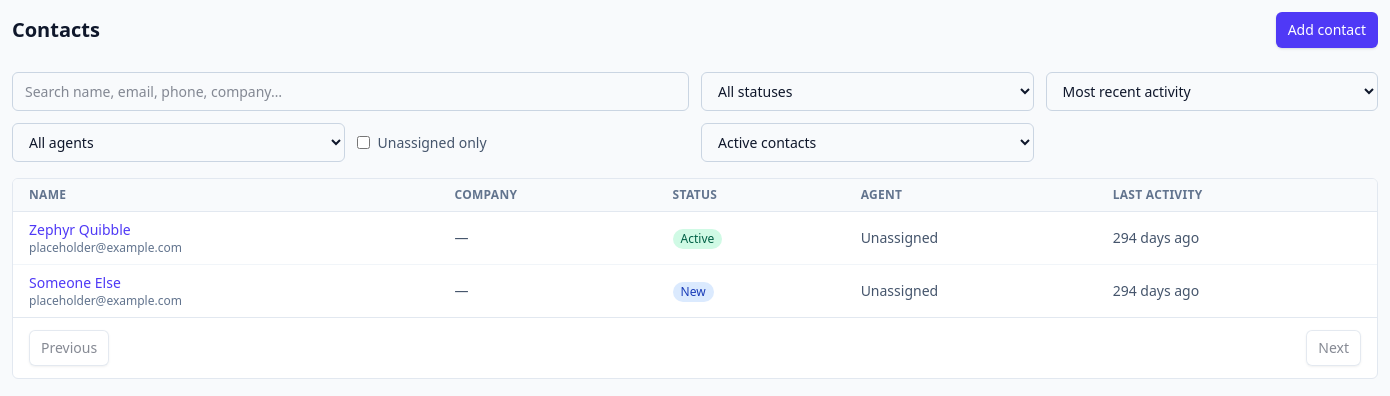
ContactsListPage › sends the search text and selected status as query params, and renders only the matching contact the server returns
The width and height of the screenshot is (1390, 396).
Expected: the link "Someone Else" is shown, top-left (29, 273), bottom-right (121, 292)
Type "Zephyr" into the search field with placeholder "Search name, email, phone, company…". click: (350, 92)
box: top-left (12, 72), bottom-right (689, 111)
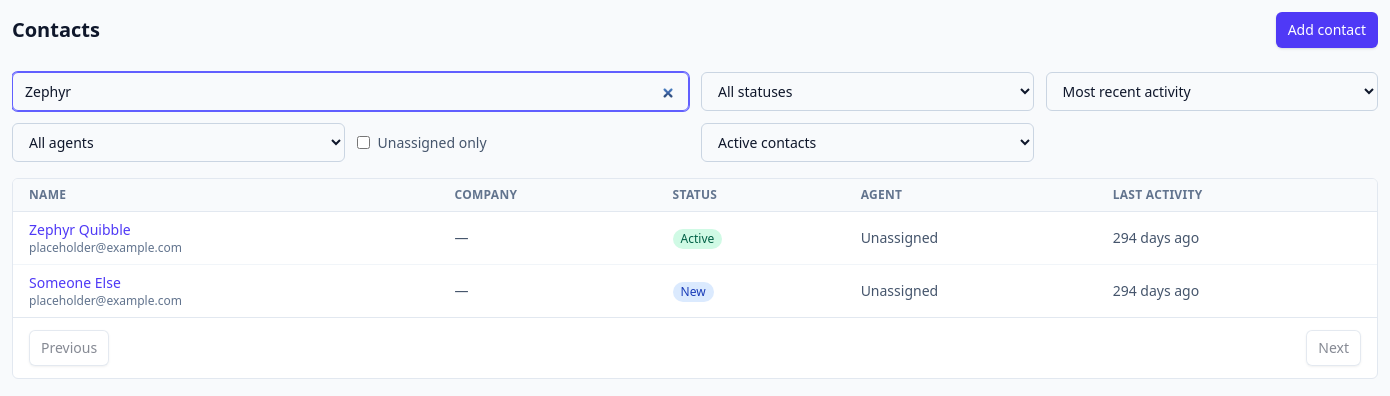
Select "Active" in the 1st dropdown showing "All statuses". click: (867, 92)
box: top-left (701, 72), bottom-right (1034, 111)
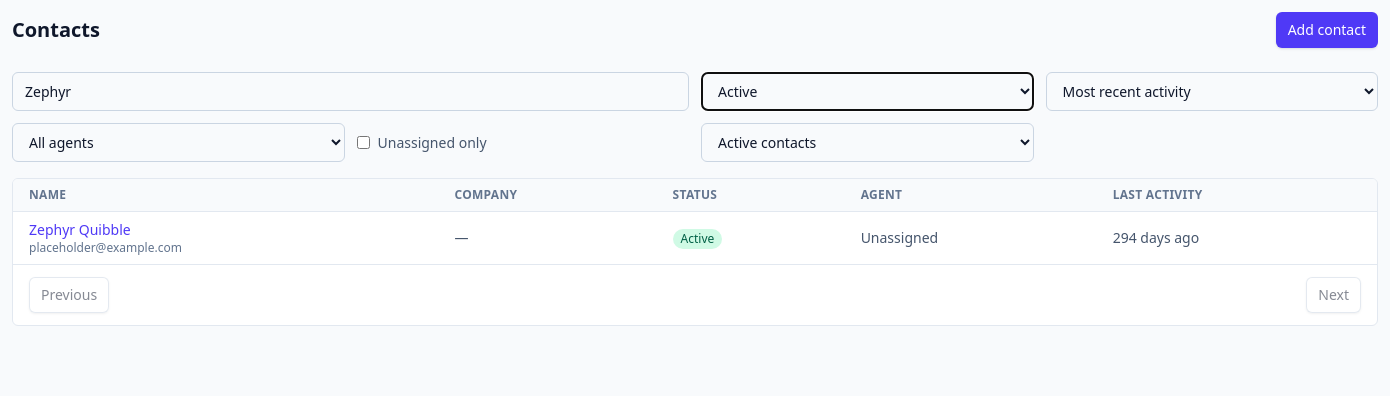
Expected: the link "Zephyr Quibble" is shown, top-left (29, 220), bottom-right (131, 239)
Expected: the link "Someone Else" is gone
